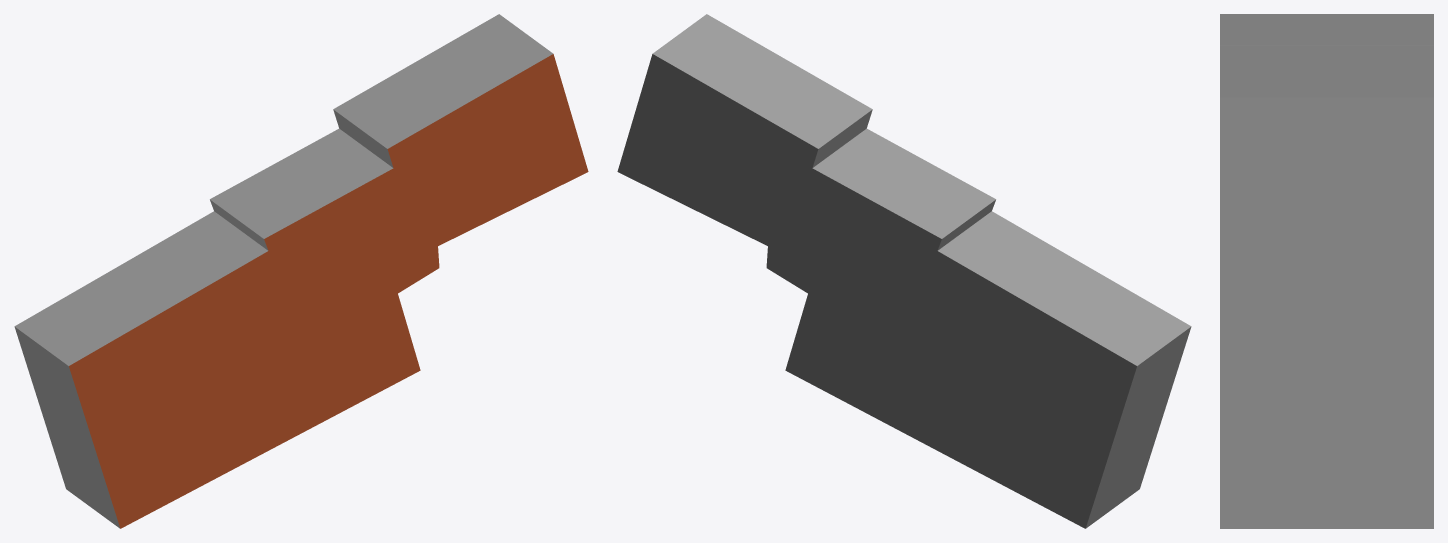
Rendered from construction_0628_assumed_A_Casa_h6m.obj.
3 renders of one model, left to right at view 1: azimuth 30°, elevation 25°; view 2: azimuth 150°, elevation 25°; view 3: azimuth 270°, elevation 25°, orthographic. The views are drawn at different scales.
Parts seen in each view (by area): view 1: construction_0628_assumed_A_Casa; view 2: construction_0628_assumed_A_Casa; view 3: construction_0628_assumed_A_Casa.
Part boxes in pixels (left/top/right/bottom): construction_0628_assumed_A_Casa: left=14, top=14, right=588, bottom=528; construction_0628_assumed_A_Casa: left=617, top=14, right=1191, bottom=528; construction_0628_assumed_A_Casa: left=1220, top=14, right=1433, bottom=528.
Size of the model in its own units: 33.12 by 22.5 by 6.
